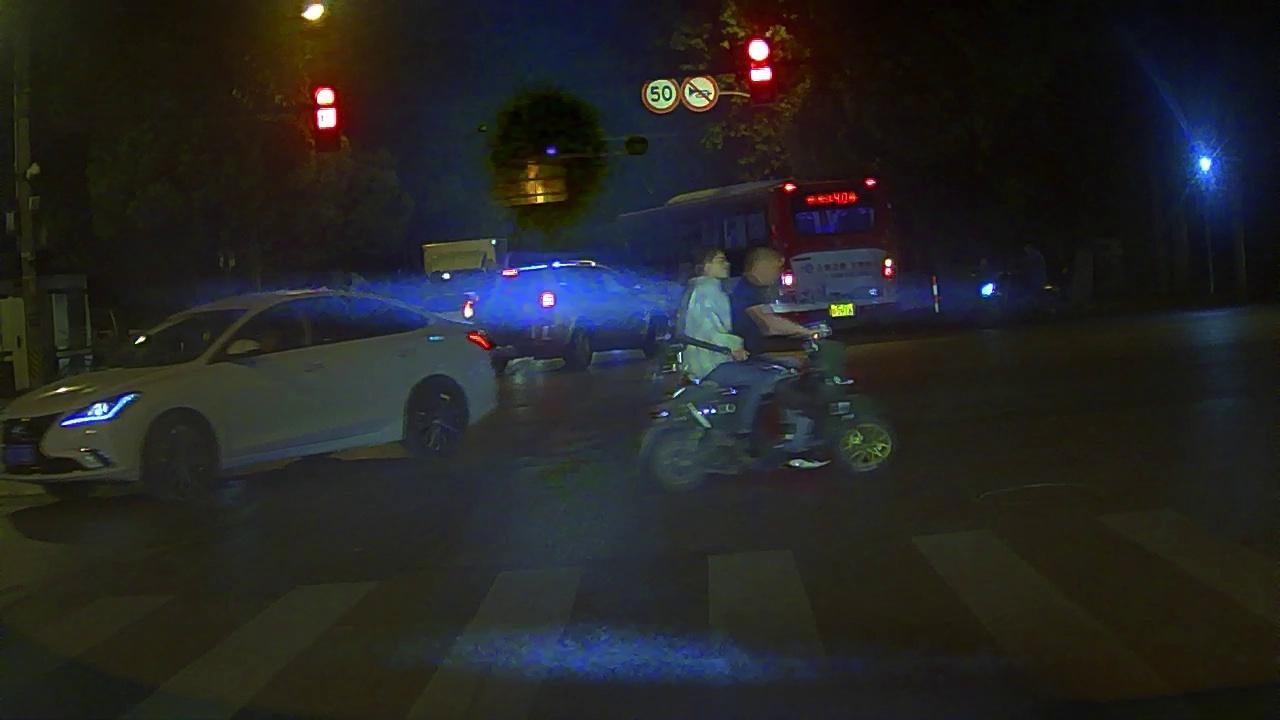traffic_light: (746, 35, 777, 104), (312, 84, 341, 152)
